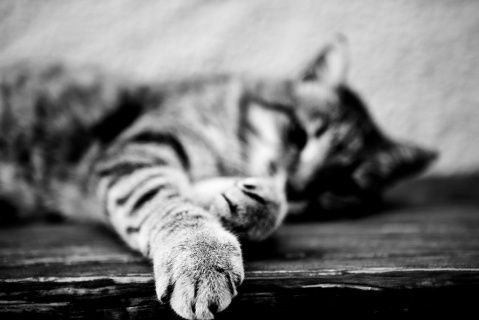Cat: (0, 27, 438, 319)
